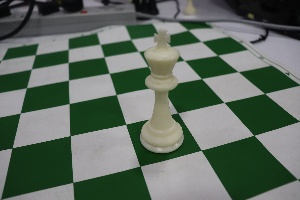white_king: (134, 21, 189, 157)
